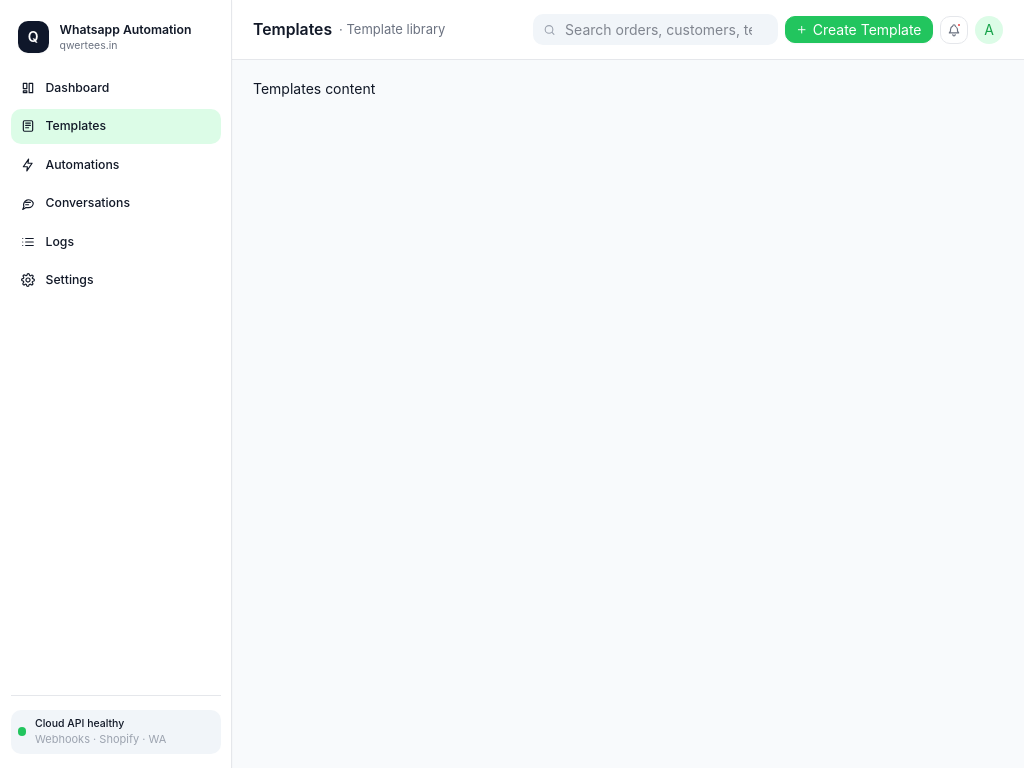
navigates from templates to the create template route
This screenshot has width=1024, height=768.
Click the button "Create Template" at (859, 30), box [785,16,933,43]
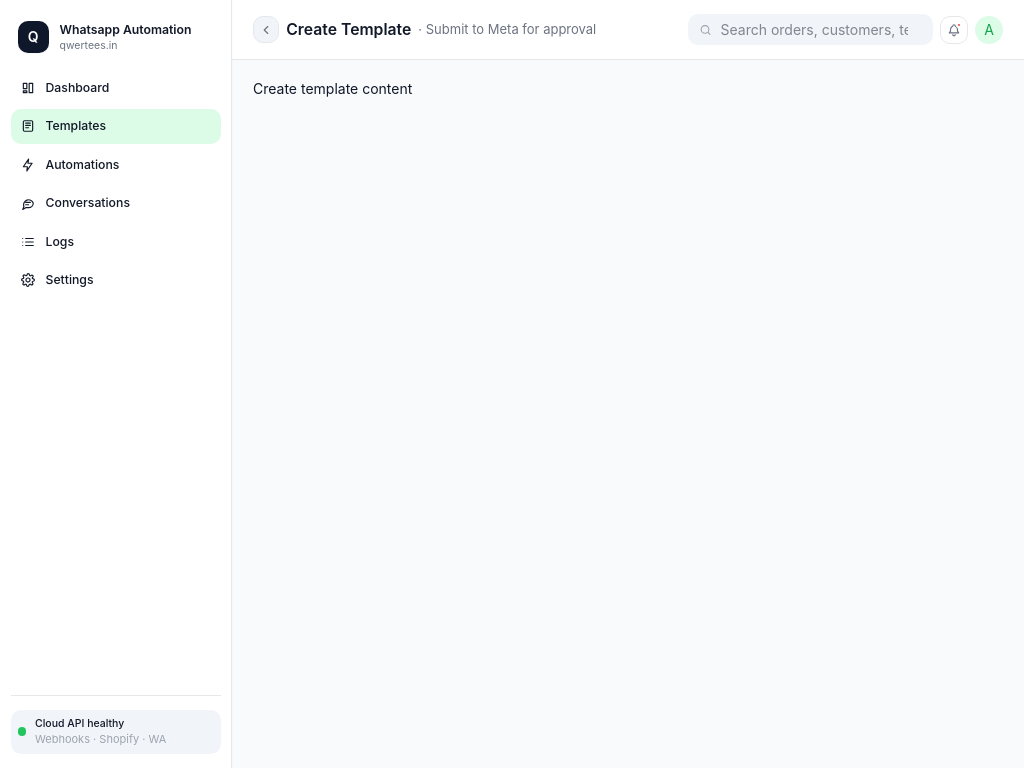
Expected: the heading "Create Template" is shown, [286,20,411,39]
Expected: the text "Create template content" is shown, [253,80,412,96]
